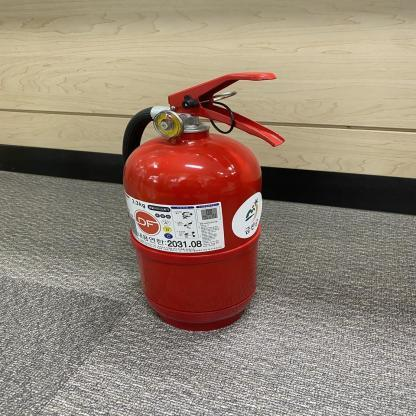Fire Extinguisher: (108, 63, 300, 331)
